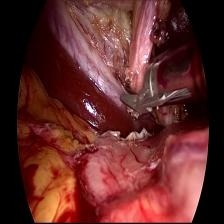Clipper: (120, 49, 173, 113)
